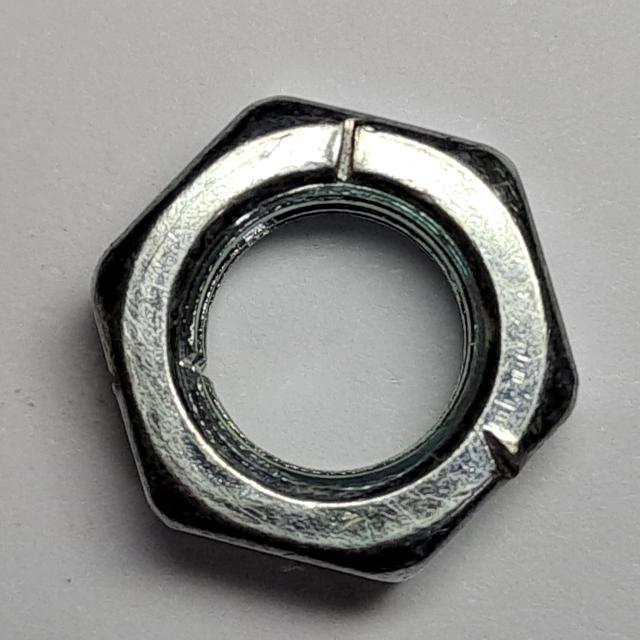Scratches: (81, 85, 591, 595)
